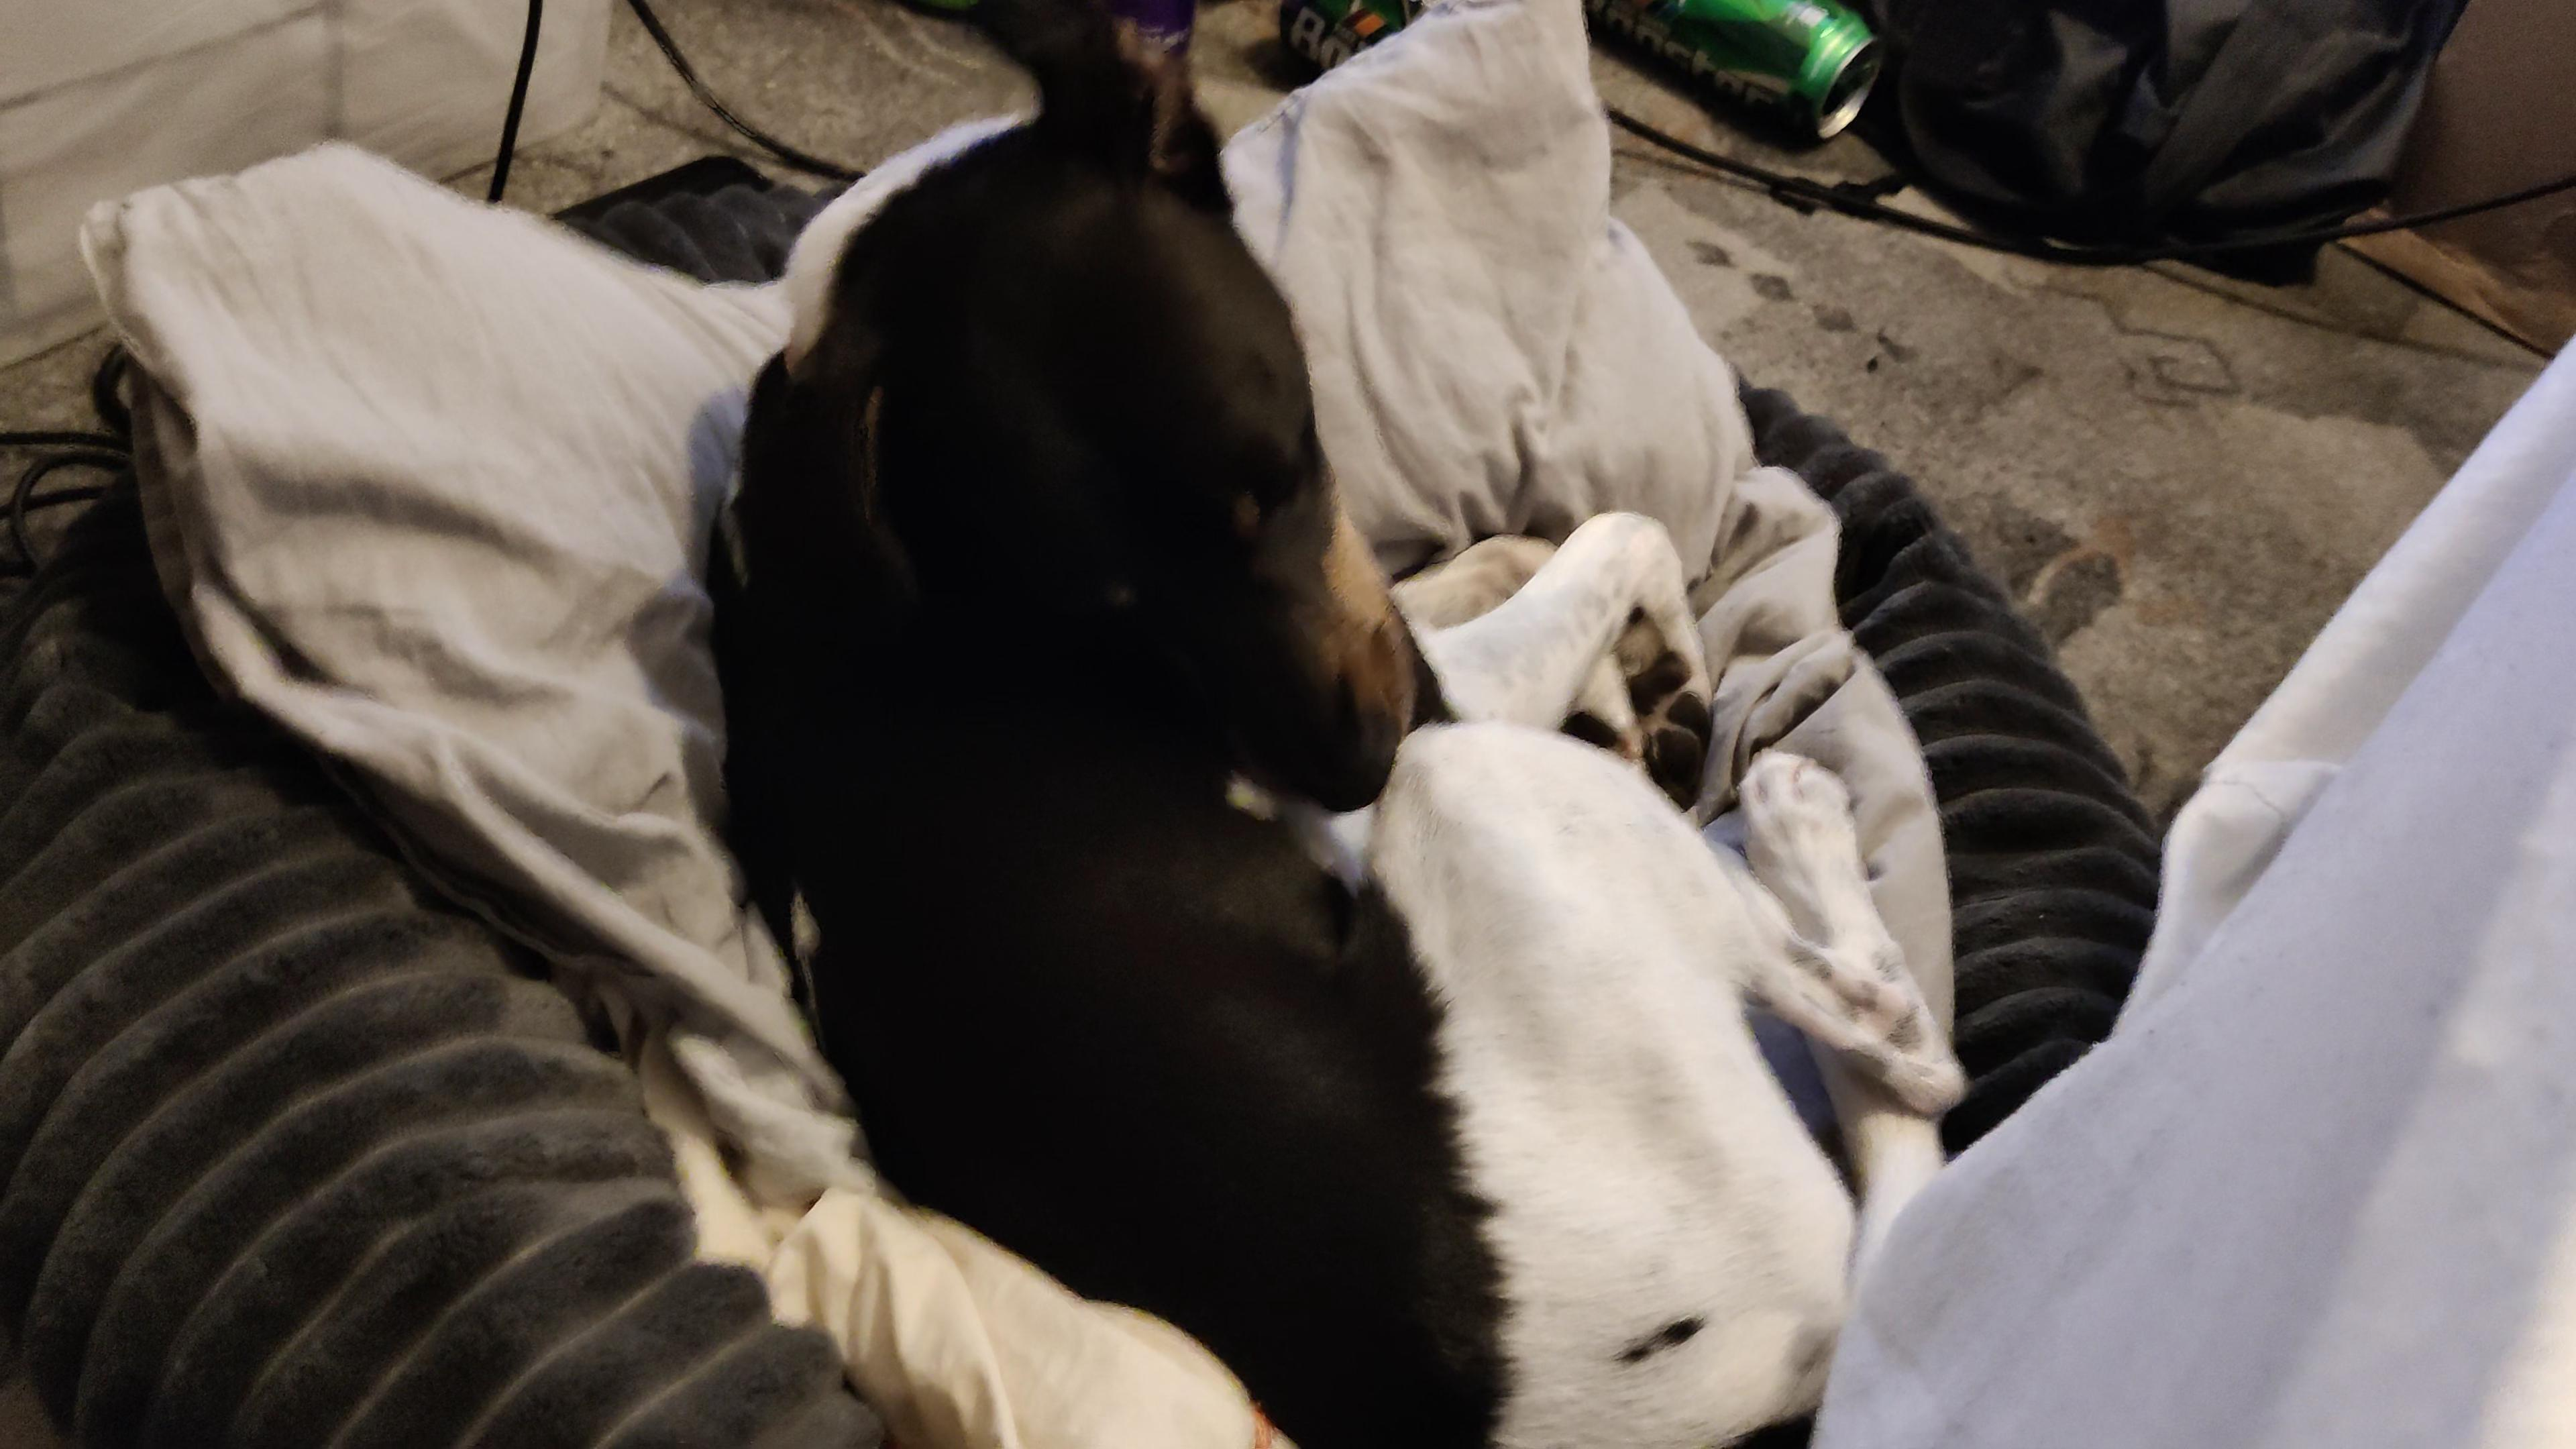Dog: (688, 0, 1989, 1449)
